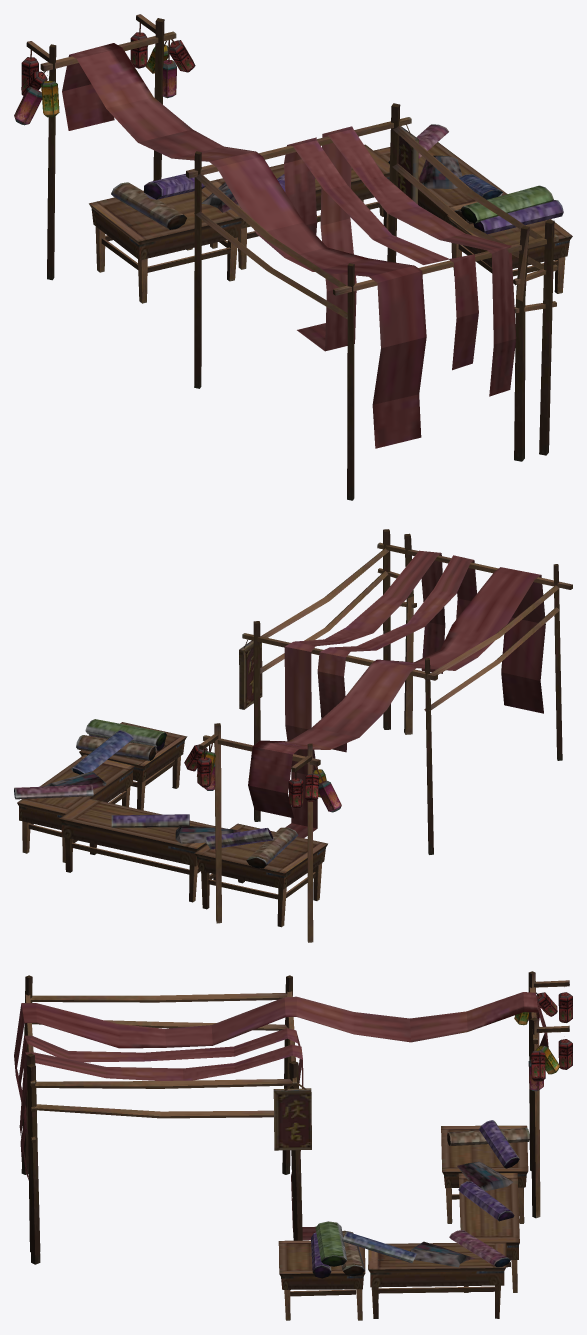
Rendered from Yland1_bj_03 Yland1.FBX.
3 renders of one model, top to bottom at view 1: azimuth 30°, elevation 25°; view 2: azimuth 150°, elevation 25°; view 3: azimuth 270°, elevation 25°, orthographic. The views are drawn at different scales.
Visible parts, largest first — view 1: Yland1_bj_03 Yland1; view 2: Yland1_bj_03 Yland1; view 3: Yland1_bj_03 Yland1.
Part boxes in pixels (bbox=[...]): Yland1_bj_03 Yland1: bbox=[14, 14, 572, 500]; Yland1_bj_03 Yland1: bbox=[14, 529, 572, 942]; Yland1_bj_03 Yland1: bbox=[14, 971, 572, 1320].
Bounding box in the file's own units: 6.28 × 3.47 × 8.49.
